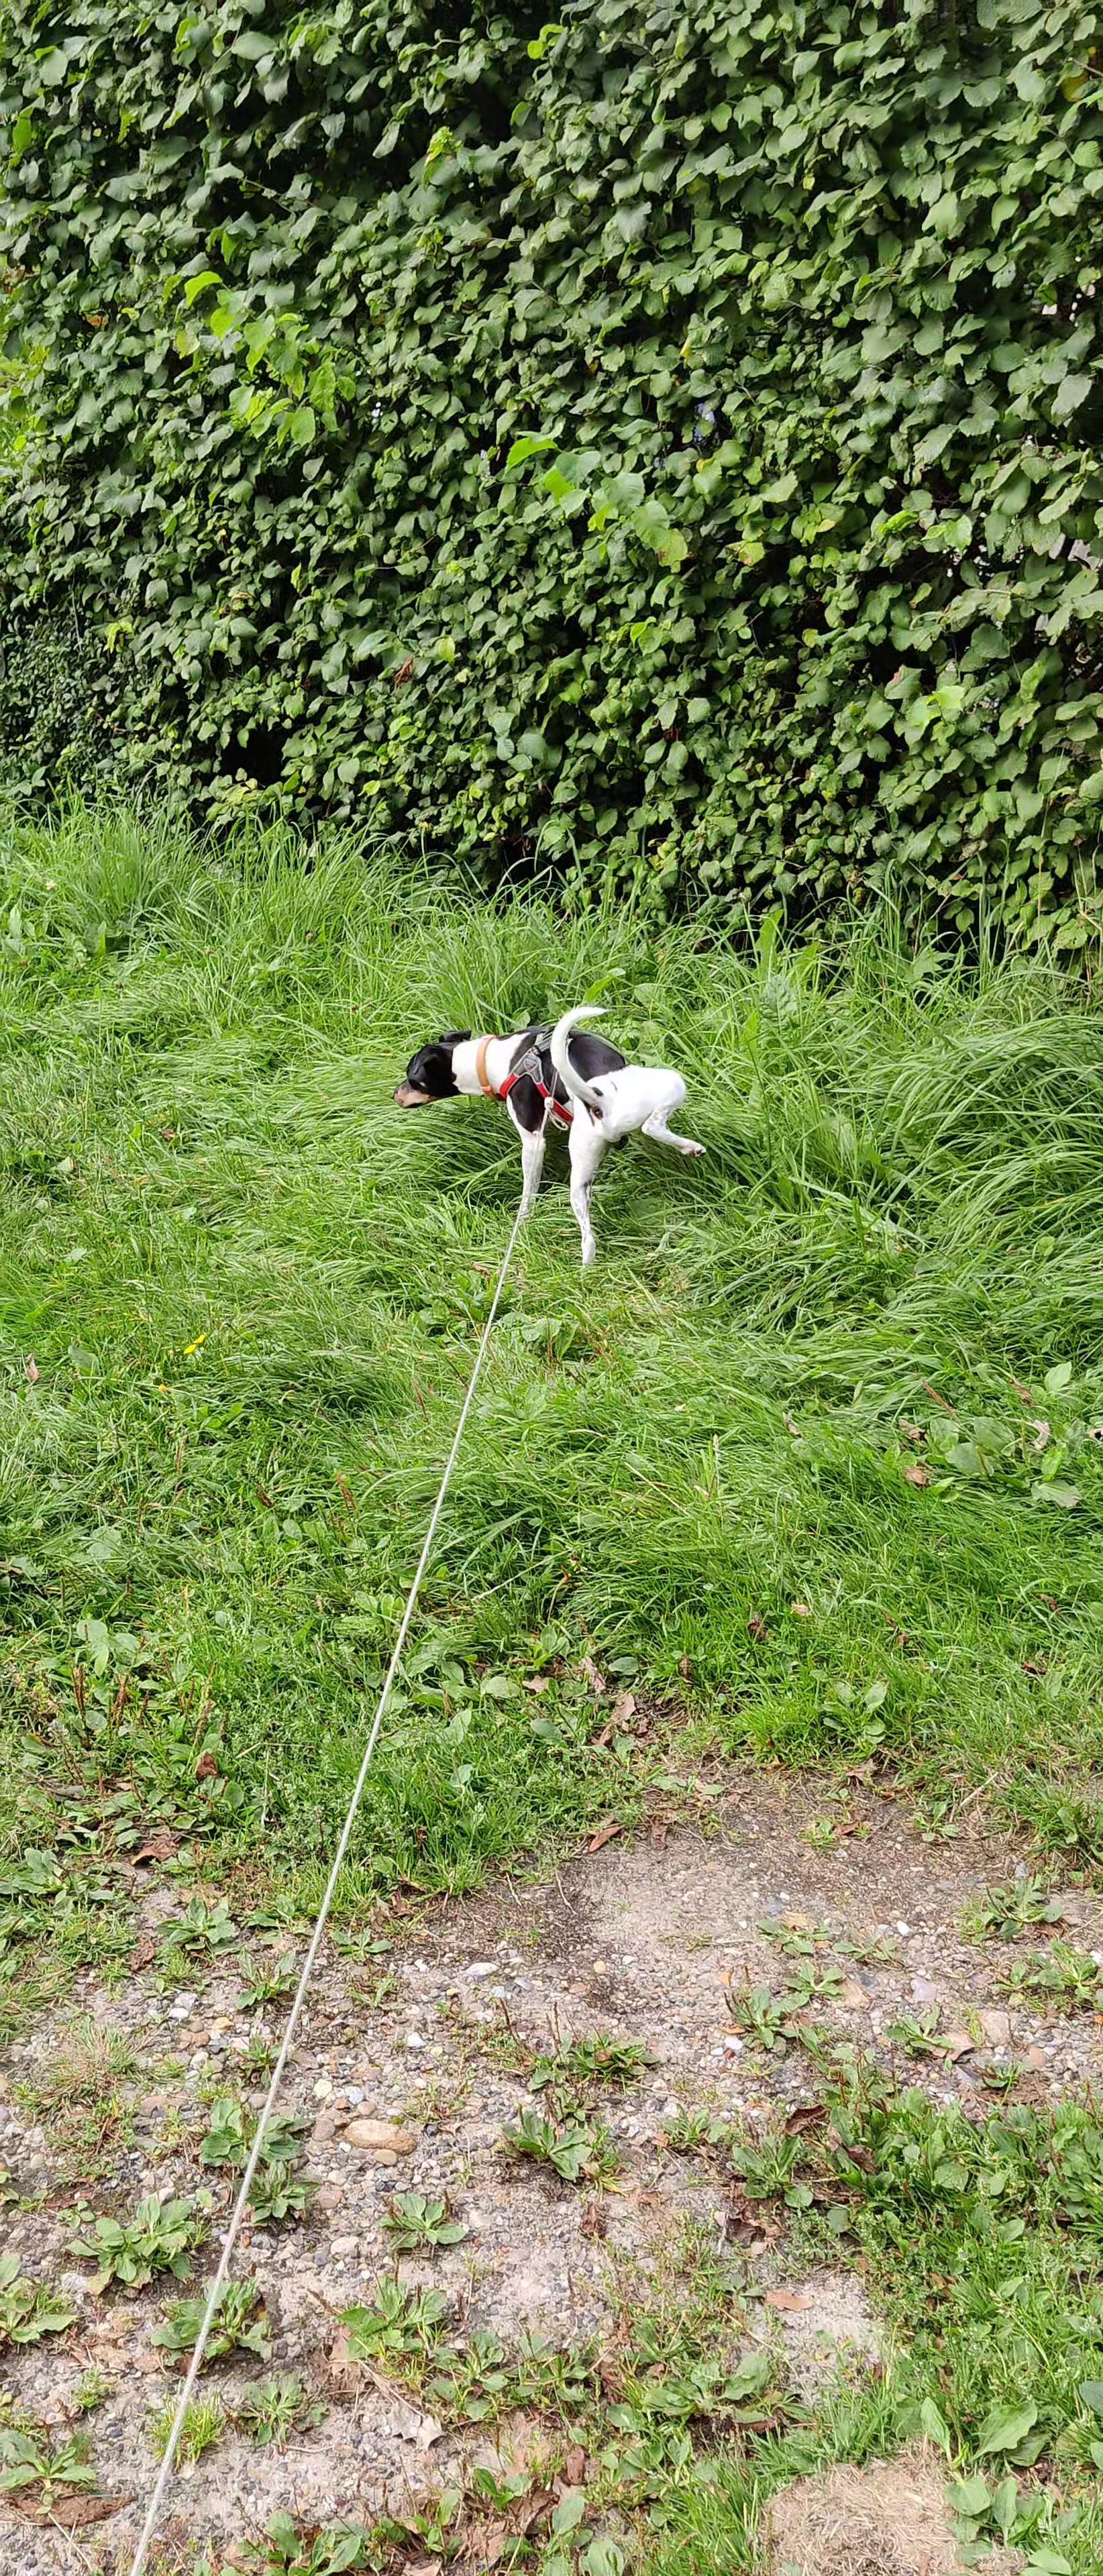Dog: (388, 1002, 708, 1268)
